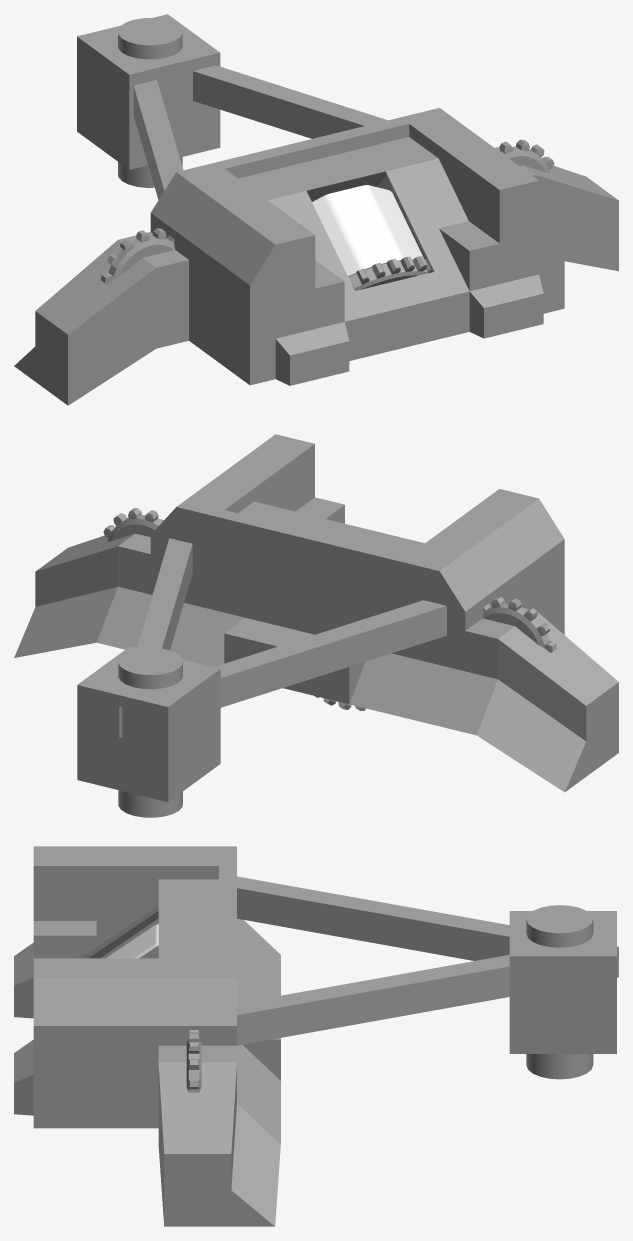
Rendered from MM_GPE_Panel.fbx.
3 renders of one model, top to bottom at view 1: azimuth 30°, elevation 25°; view 2: azimuth 150°, elevation 25°; view 3: azimuth 270°, elevation 25°, orthographic. The views are drawn at different scales.
Parts seen in each view (by area): view 1: pCube1, pCube5, pCube7, cylinder_main, pCylinder2, cog, cog3; view 2: pCube1, pCube5, pCube7, pCylinder2, cog, cog3; view 3: pCube1, pCube7, pCube5, pCylinder2, cog3, cylinder_main.
Boxes of the visible parts, left/top/right/bottom form: pCube1: left=14, top=108, right=618, bottom=405; pCube5: left=77, top=14, right=220, bottom=169; pCube7: left=133, top=65, right=387, bottom=199; cylinder_main: left=312, top=185, right=432, bottom=290; pCylinder2: left=118, top=18, right=182, bottom=187; cog: left=101, top=228, right=174, bottom=284; cog3: left=499, top=139, right=554, bottom=173; pCube1: left=14, top=434, right=618, bottom=792; pCube5: left=77, top=646, right=220, bottom=801; pCube7: left=119, top=538, right=446, bottom=737; pCylinder2: left=118, top=647, right=182, bottom=817; cog: left=483, top=596, right=557, bottom=652; cog3: left=103, top=508, right=162, bottom=541; pCube1: left=14, top=846, right=280, bottom=1226; pCube7: left=237, top=876, right=618, bottom=1045; pCube5: left=509, top=911, right=616, bottom=1053; pCylinder2: left=526, top=905, right=593, bottom=1079; cog3: left=186, top=1030, right=201, bottom=1092; cylinder_main: left=106, top=924, right=158, bottom=958.
Bounding box in the file's own units: 6.06 × 2.04 × 5.63.
